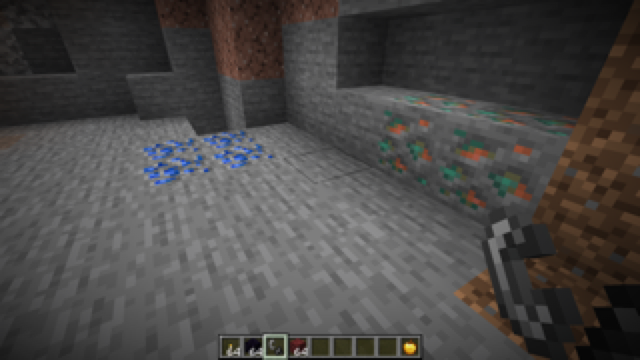copper: (369, 92, 579, 239)
lapis: (140, 130, 276, 186)
